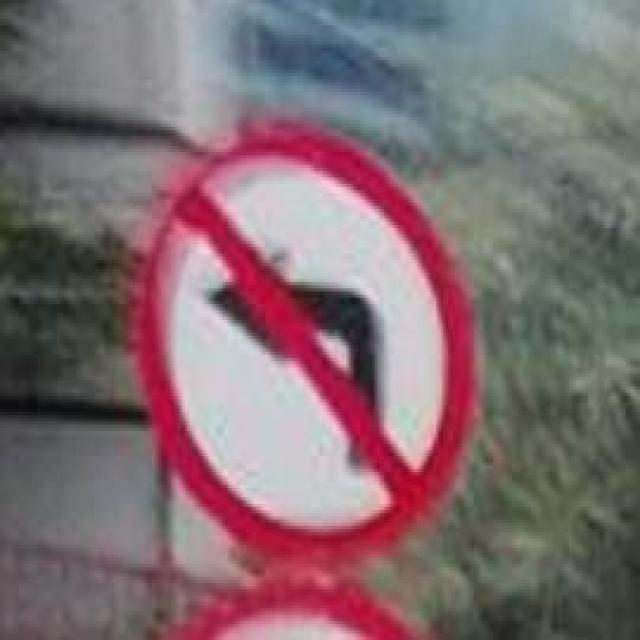traffic sign: (144, 146, 460, 570)
